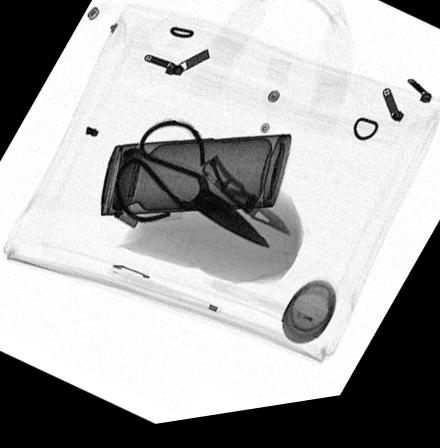Knife: (200, 161, 290, 246)
Scissors: (113, 125, 269, 257)
